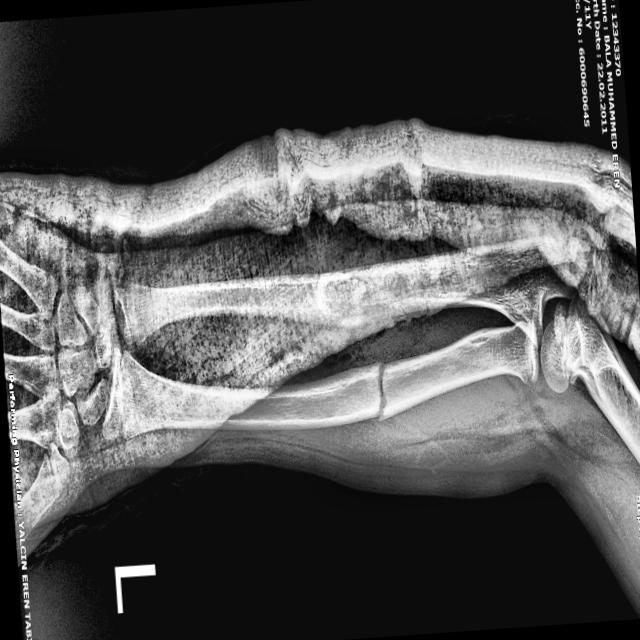Fracture: (368, 355, 393, 431)
